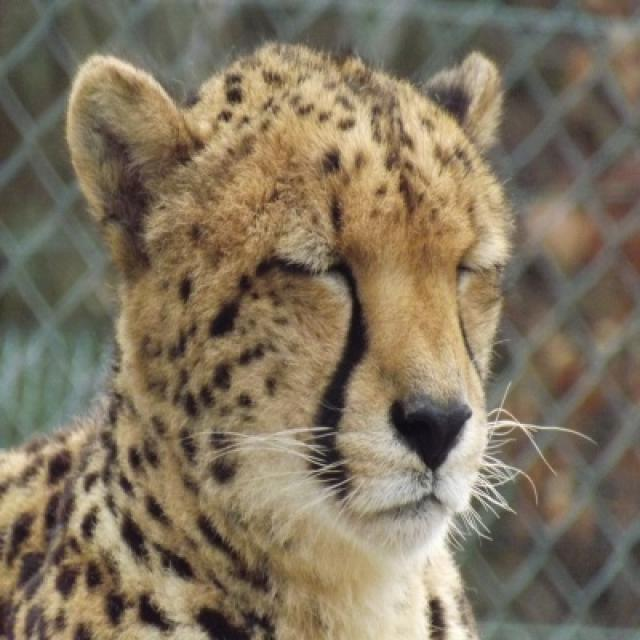Cheetah: (0, 42, 517, 638)
